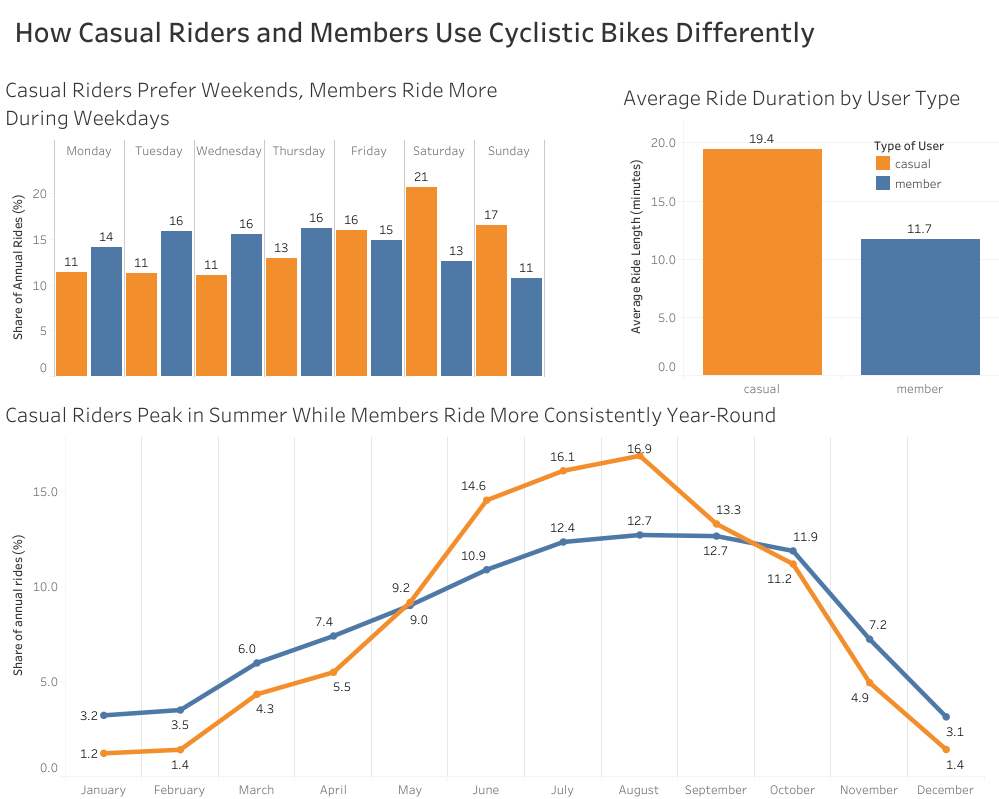

The dashboard page shown, as its layout file describes it:
{"tool":"tableau","page":{"name":"How Casual Riders and Members Use Cyclistic Bikes Differently","canvas":[1000,800],"ordinal":0},"visuals":[{"type":"title","box":[8,8,984,98]},{"type":"worksheet","title":"Weekly Ride Distribution by User Type","mark":"Bar","rows":["pct_of_user_rides"],"cols":["day_of_week","member_casual"],"box":[1,69,544,308]},{"type":"worksheet","title":"Average Ride Duration by User Type","mark":"Automatic","rows":["avg_ride_length_min"],"cols":["member_casual"],"box":[619,77,380,320]},{"type":"legend","title":"Seasonal Ride Patterns by User Type","param":"[federated.1cbqjok1rn92zn1dtn1on17c7fhk].[none:member_casual:nk]","box":[873,134,92,59]},{"type":"worksheet","title":"Seasonal Ride Patterns by User Type","mark":"Line","rows":["pct_of_user_rides"],"cols":["month"],"box":[1,394,983,404]}]}

Visuals, with their boxes in screenshot pixels (x1, y1, x2, y2), scaled from the page's 1000x800 canvas onto the 999x799 screenshot:
title: left=8, top=8, right=991, bottom=106
"Weekly Ride Distribution by User Type" worksheet (Bar marks): left=1, top=69, right=544, bottom=377
"Average Ride Duration by User Type" worksheet: left=618, top=77, right=998, bottom=397
"Seasonal Ride Patterns by User Type" legend: left=872, top=134, right=964, bottom=193
"Seasonal Ride Patterns by User Type" worksheet (Line marks): left=1, top=394, right=983, bottom=797
